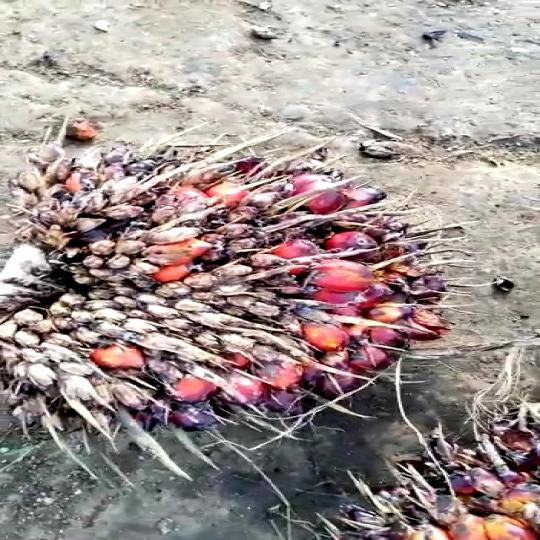masak: (0, 122, 451, 451)
